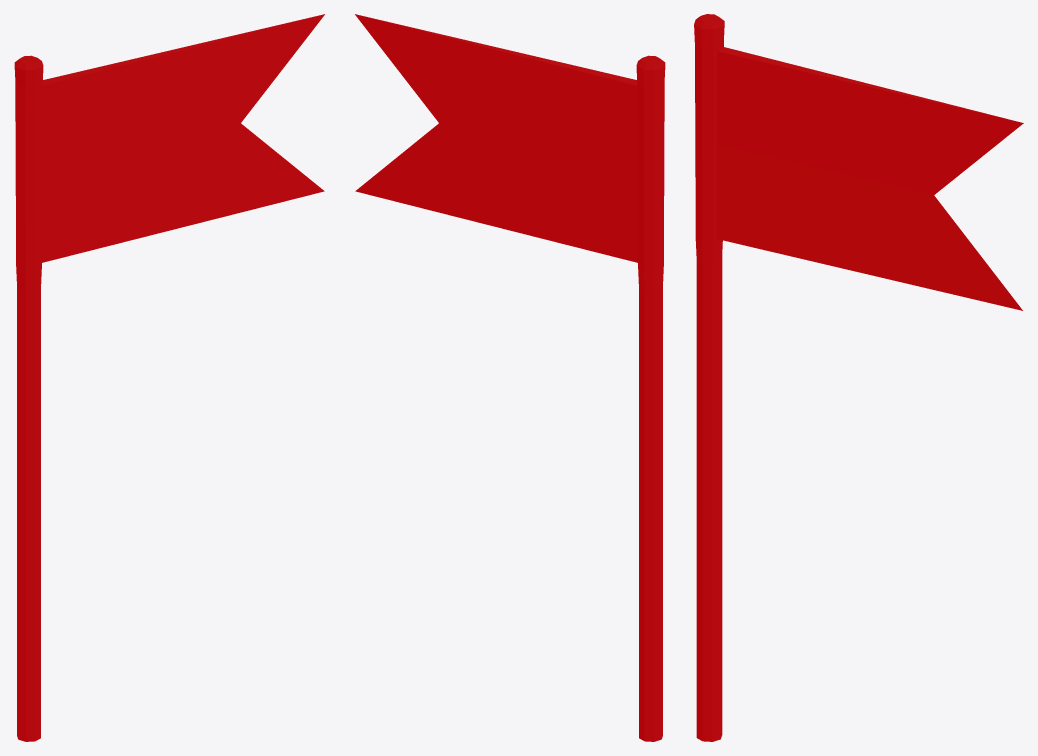
File: flag.glb
3 renders of one model, left to right at view 1: azimuth 30°, elevation 25°; view 2: azimuth 150°, elevation 25°; view 3: azimuth 330°, elevation 25°, orthographic. The views are drawn at different scales.
Parts seen in each view (by area): view 1: Cylinder; view 2: Cylinder; view 3: Cylinder.
Part boxes in pixels (left/top/right/bottom): Cylinder: left=14, top=14, right=324, bottom=741; Cylinder: left=355, top=14, right=665, bottom=741; Cylinder: left=694, top=14, right=1023, bottom=741.
Bounding box in the file's own units: 0.7179 × 1.5 × 0.0603.
